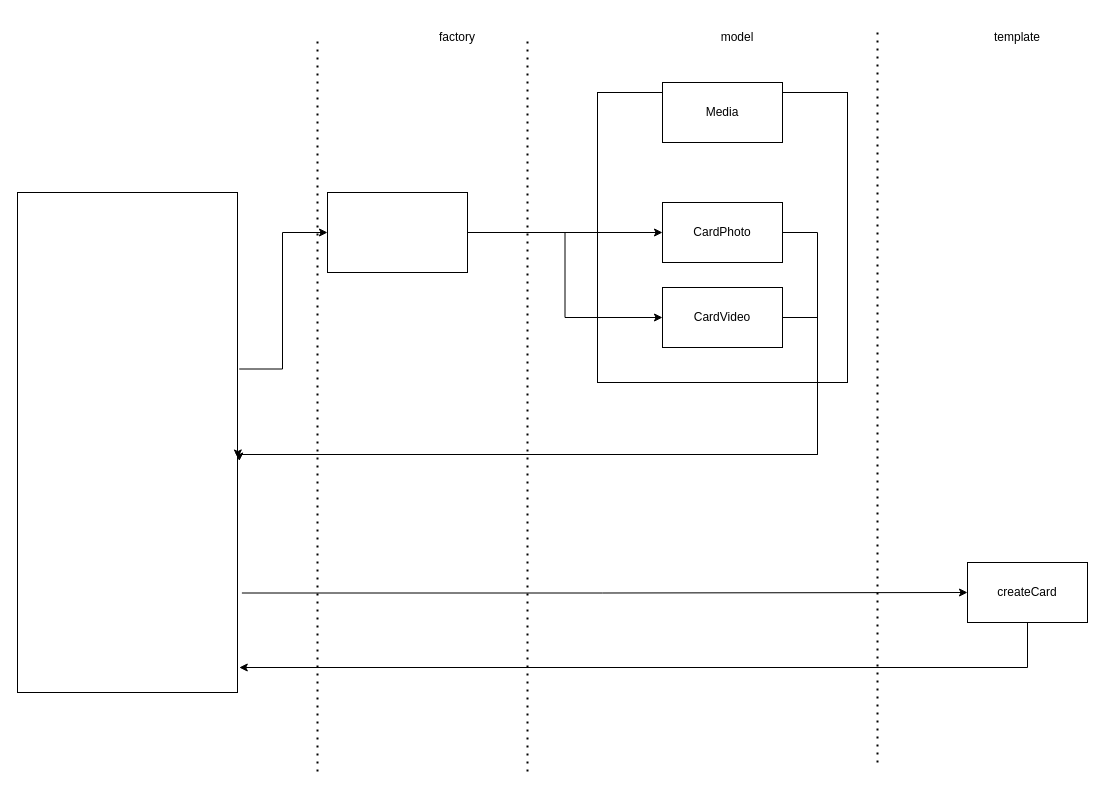
Some shapes in this 1105 by 790 pixel diagram are drawn without their labels. The shapes that lost their labels are listed below. From the top down, each one's centre as x and y in pixels, then its label:
At [397,232]: "photoFactory".
At [127,442]: "app".
